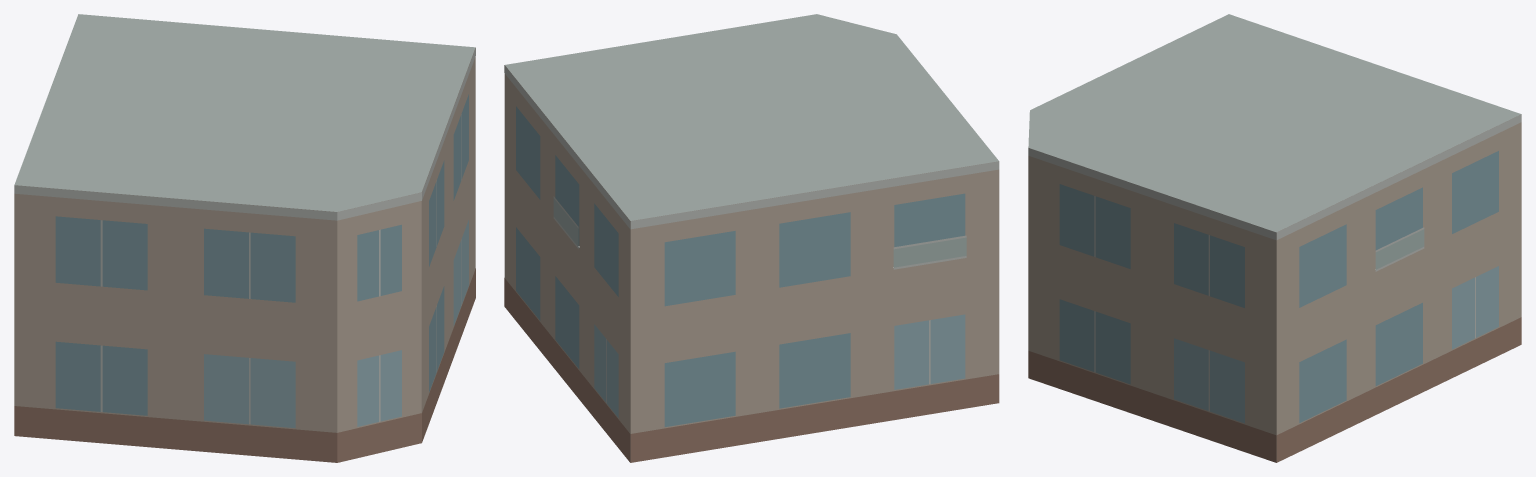
Rendered from survey-upis-32585316.glb.
3 renders of one model, left to right at view 1: azimuth 30°, elevation 25°; view 2: azimuth 150°, elevation 25°; view 3: azimuth 270°, elevation 25°, orthographic. The views are drawn at different scales.
Parts seen in each view (by area): view 1: survey-upis-32585316.tmp; view 2: survey-upis-32585316.tmp; view 3: survey-upis-32585316.tmp.
Part boxes in pixels (x1,y1,x2,y2): survey-upis-32585316.tmp: [14, 14, 475, 462]; survey-upis-32585316.tmp: [504, 14, 999, 462]; survey-upis-32585316.tmp: [1028, 14, 1521, 462].
Size of the model in its own units: 14.44 by 7.1 by 13.78.
